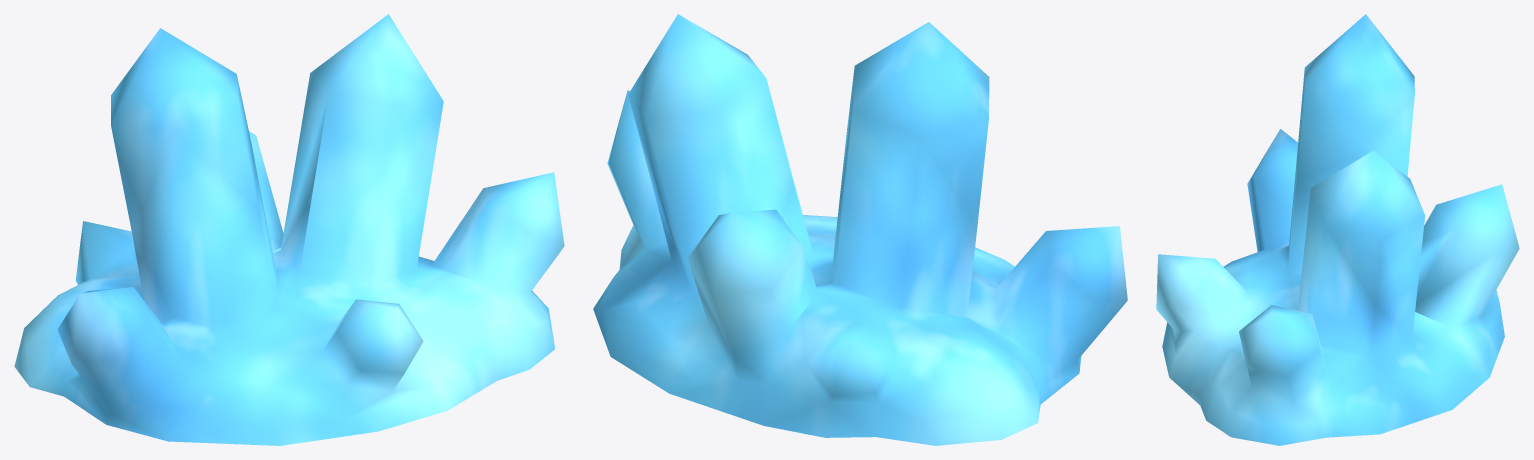
The model's file is SM_Ice_Crystal_2.glb.
3 renders of one model, left to right at view 1: azimuth 30°, elevation 25°; view 2: azimuth 150°, elevation 25°; view 3: azimuth 270°, elevation 25°, orthographic. The views are drawn at different scales.
Parts seen in each view (by area): view 1: SM_Ice_Crystal_2; view 2: SM_Ice_Crystal_2; view 3: SM_Ice_Crystal_2.
Boxes of the visible parts, left/top/right/bottom form: SM_Ice_Crystal_2: left=14, top=14, right=564, bottom=445; SM_Ice_Crystal_2: left=593, top=14, right=1127, bottom=445; SM_Ice_Crystal_2: left=1156, top=14, right=1519, bottom=445.
Bounding box in the file's own units: 1.21 × 0.8059 × 0.9109.
Materials: 1 (1 with a texture image).
